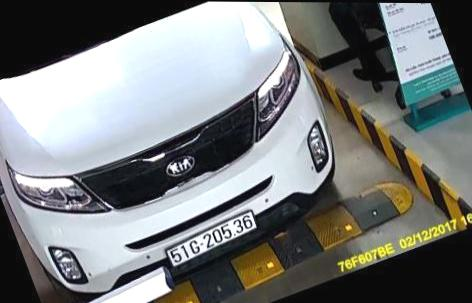License_Plate: (156, 217, 269, 264)
